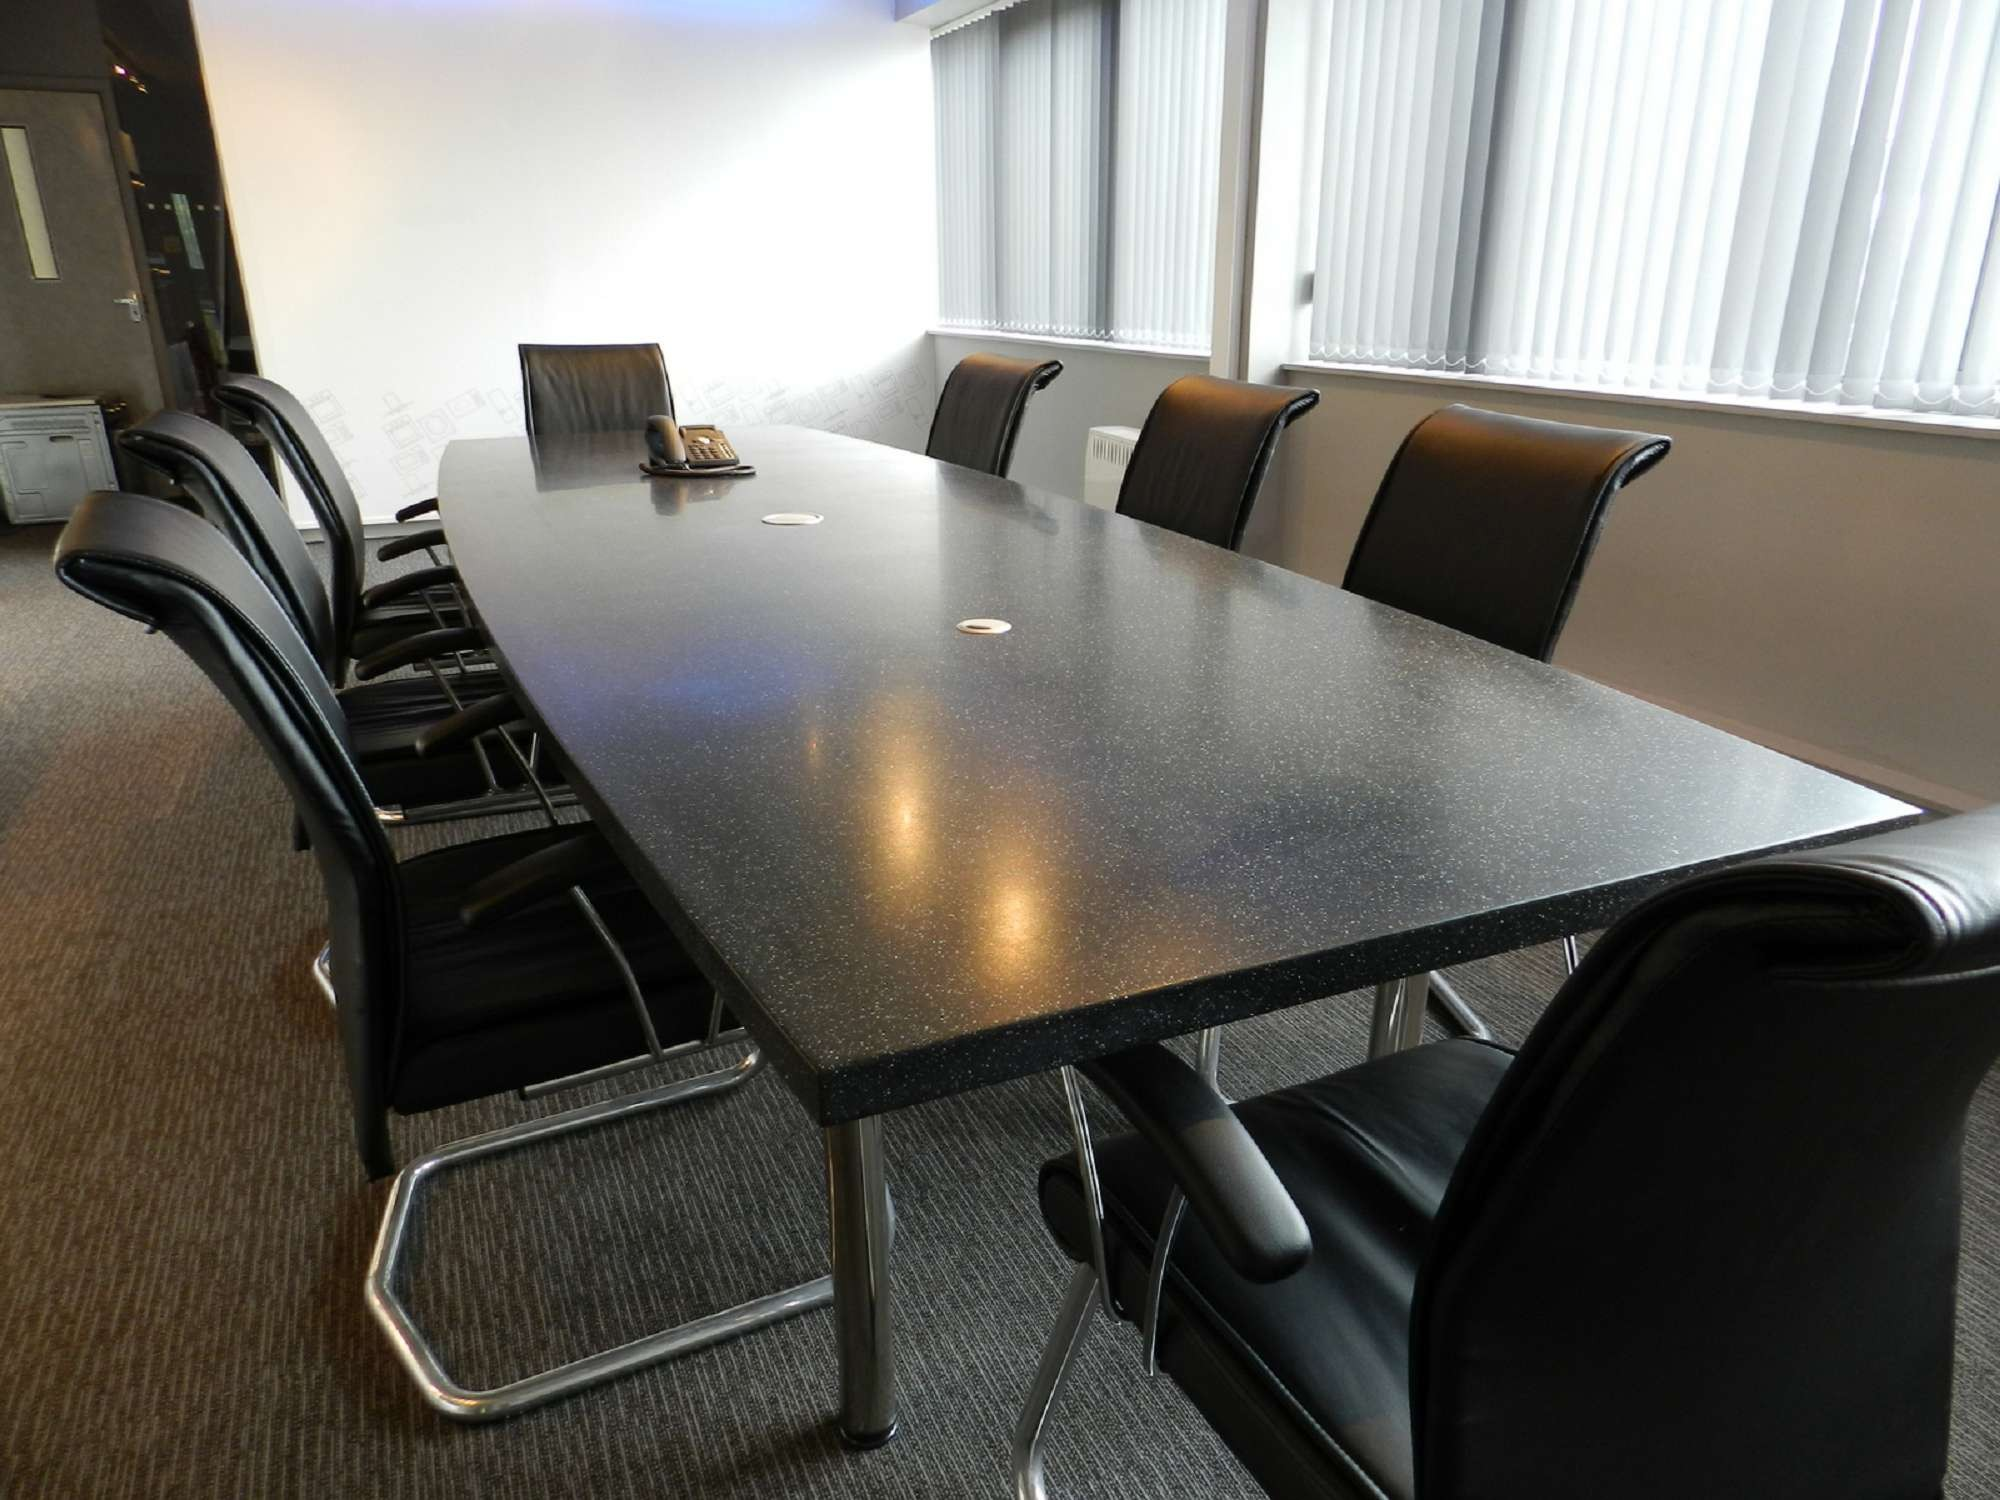conference_table: (440, 423, 1926, 1446)
